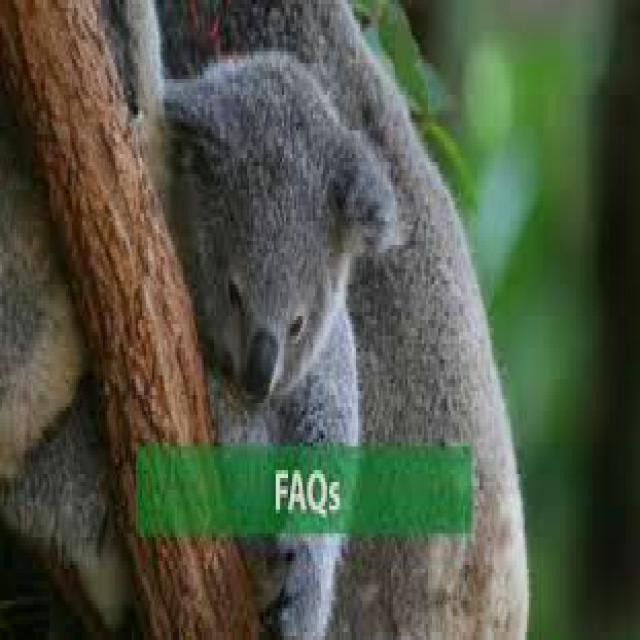koala: (165, 51, 397, 442)
